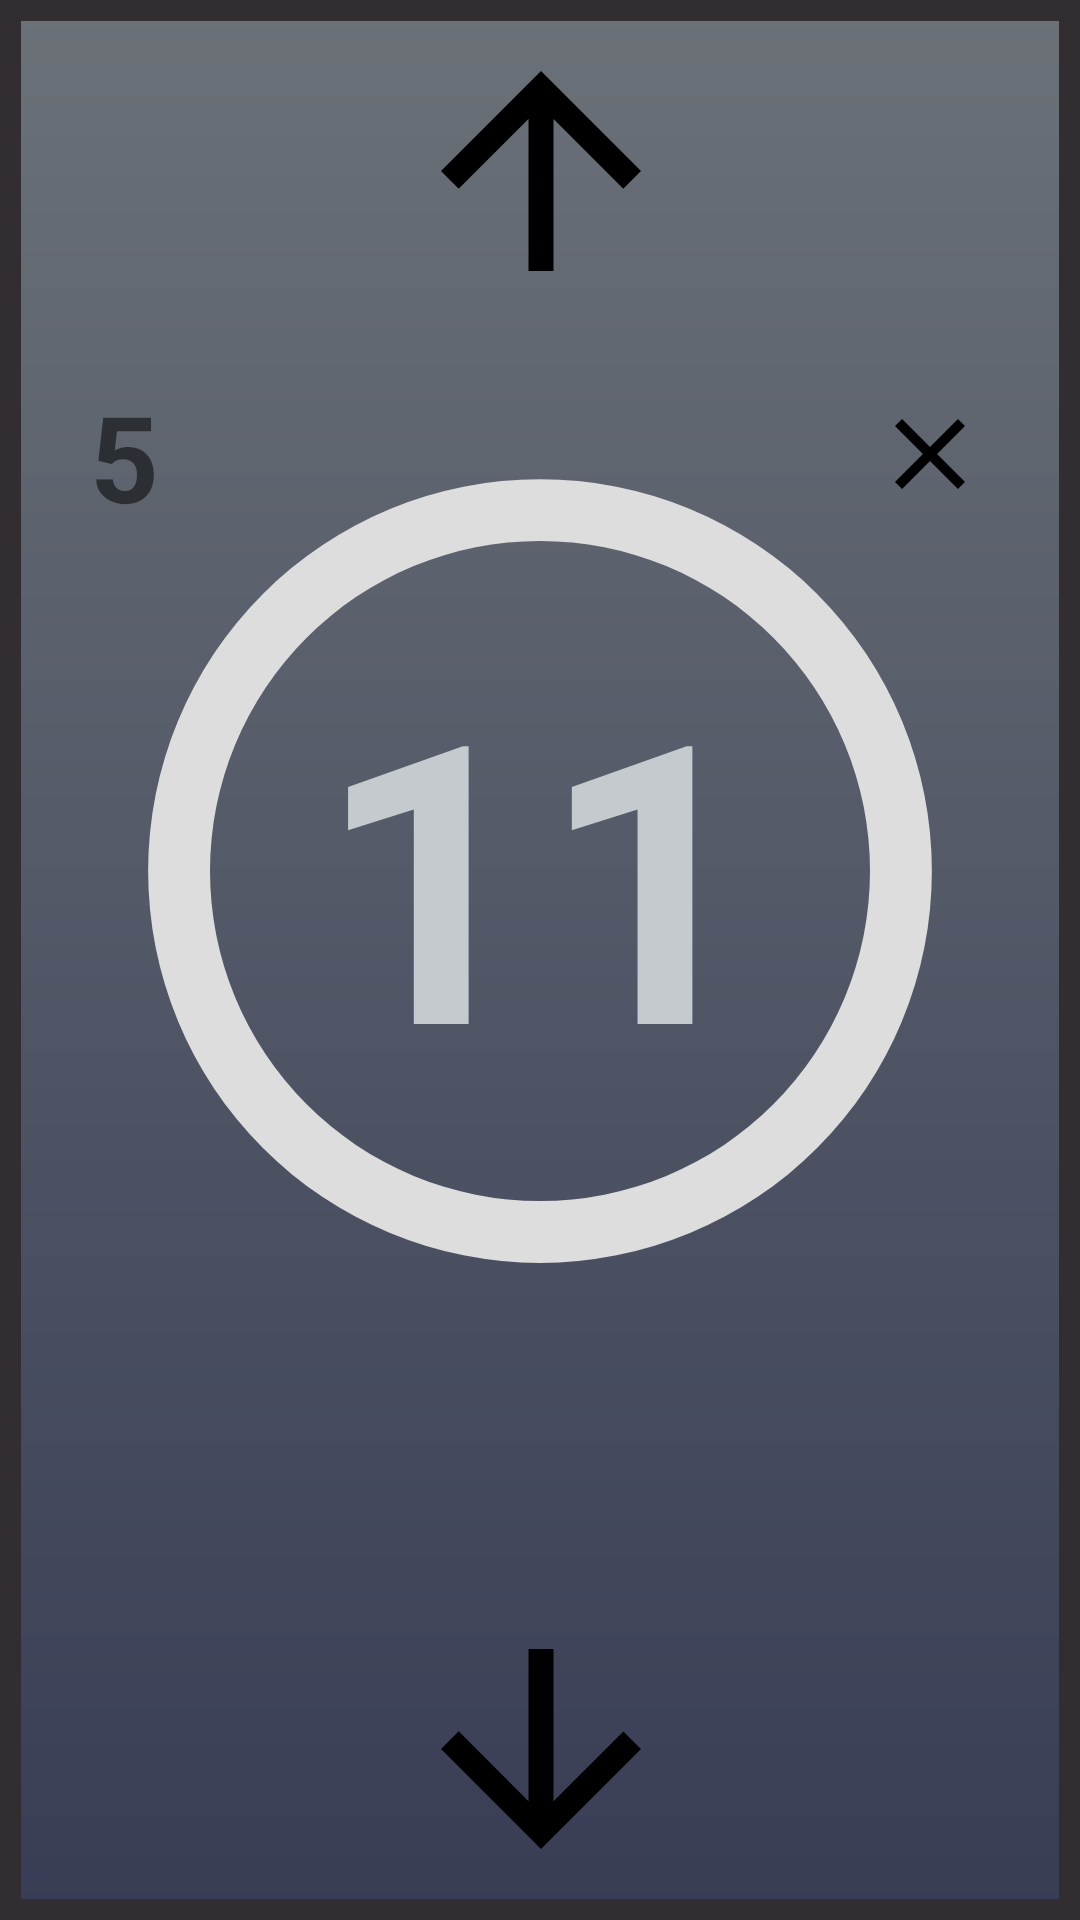

Icon bounding boxes for this 1080 x 1920 phone screenshot, format (x1, y1, x2, y2):
close: (895, 419, 965, 489)
down bigger: (441, 1649, 641, 1849)
up bigger: (441, 71, 641, 271)
